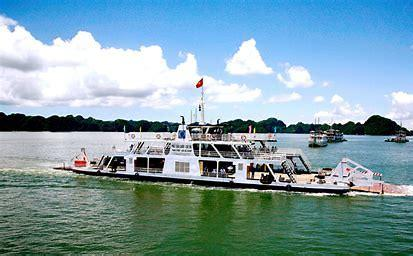Ship: (57, 118, 413, 197), (325, 129, 347, 144), (386, 131, 410, 143), (309, 132, 328, 147)
